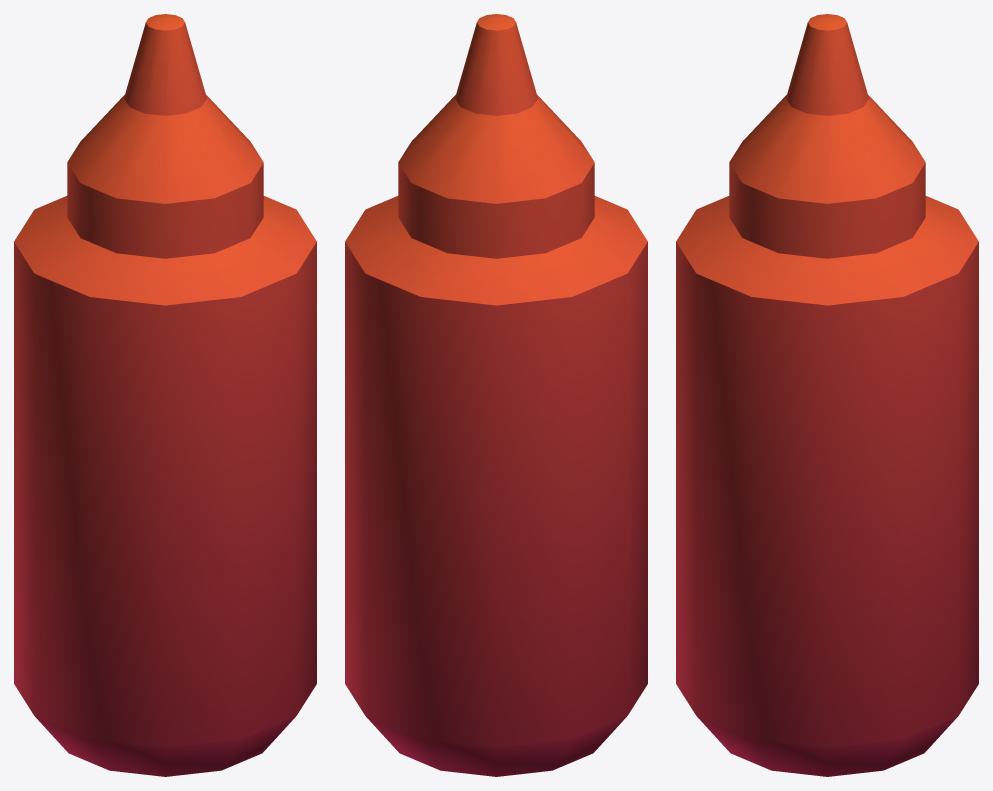
File: ketchup.obj
The picture shows the model from 3 angles, left to right: view 1: azimuth 30°, elevation 25°; view 2: azimuth 150°, elevation 25°; view 3: azimuth 270°, elevation 25°; orthographic projection.
Parts seen in each view (by area): view 1: ketchup_Cylinder.157; view 2: ketchup_Cylinder.157; view 3: ketchup_Cylinder.157.
Boxes of the visible parts, x1,y1,x2,y2 form: ketchup_Cylinder.157: [14, 14, 316, 776]; ketchup_Cylinder.157: [345, 14, 647, 776]; ketchup_Cylinder.157: [676, 14, 978, 776].
Size of the model in its own units: 0.3 by 0.7785 by 0.3.
1 material, 1 textured.
